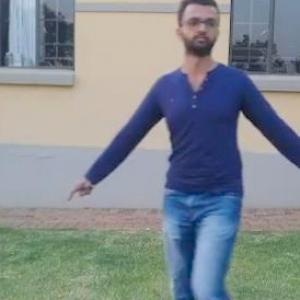land: (28, 0, 300, 299)
